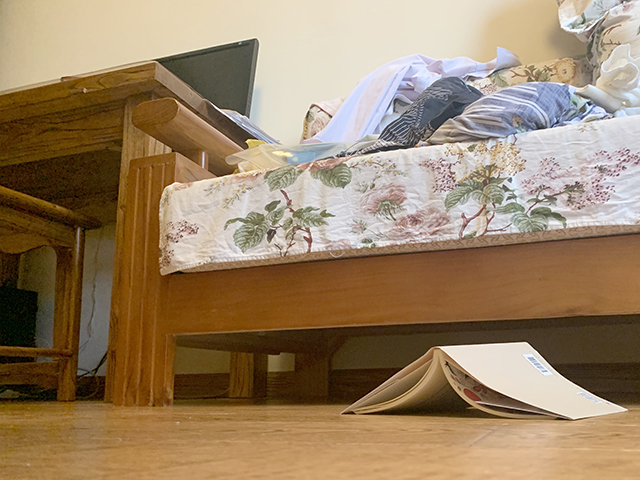book: (339, 341, 628, 421)
sofa: (109, 1, 640, 405)
stool: (1, 185, 104, 403)
table: (1, 59, 268, 407)
